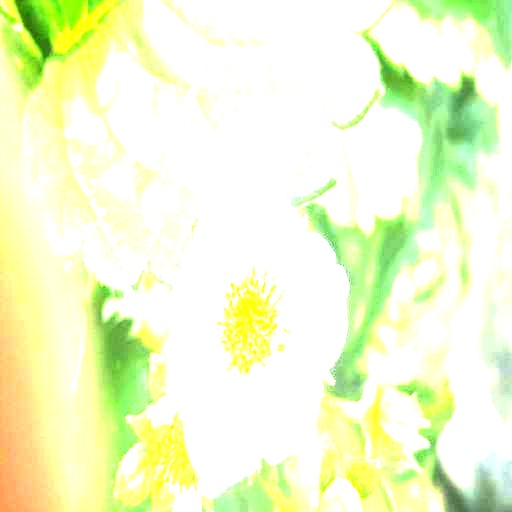Blossom Blight: (212, 259, 295, 384)
